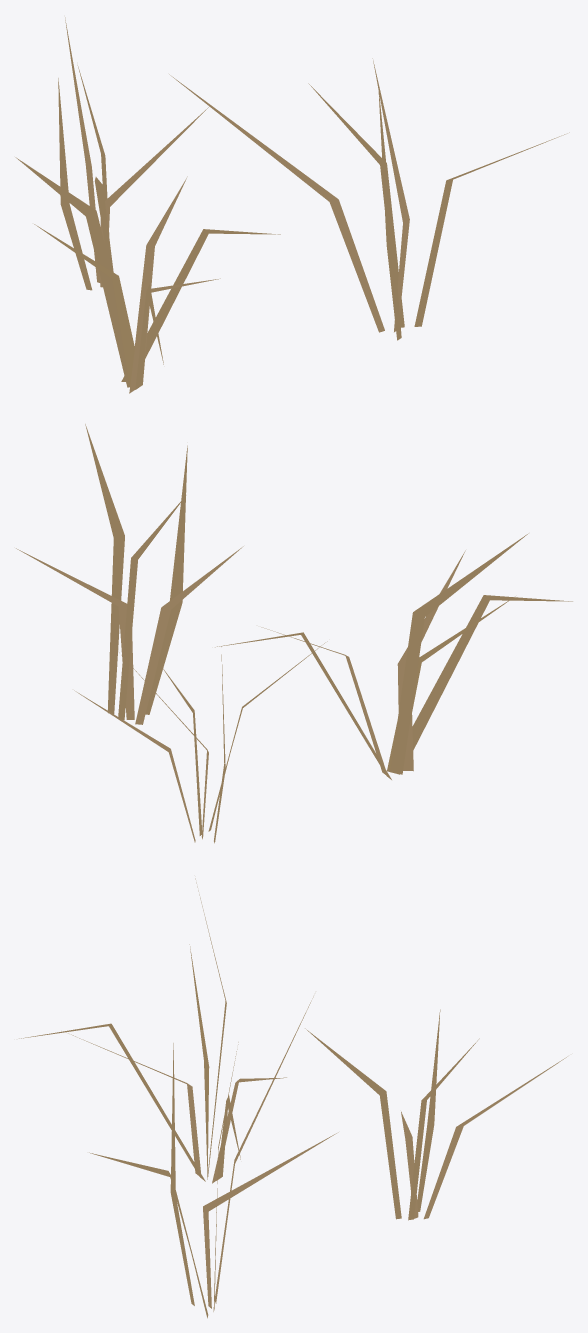
Rendered from Grass_h_TwoS_05.fbx.
3 renders of one model, top to bottom at view 1: azimuth 30°, elevation 25°; view 2: azimuth 150°, elevation 25°; view 3: azimuth 270°, elevation 25°, orthographic. The views are drawn at different scales.
Visible parts, largest first — view 1: Grass_h_TwoS_05; view 2: Grass_h_TwoS_05; view 3: Grass_h_TwoS_05.
Part boxes in pixels (bbox=[...]): Grass_h_TwoS_05: bbox=[15, 17, 569, 393]; Grass_h_TwoS_05: bbox=[16, 424, 572, 843]; Grass_h_TwoS_05: bbox=[19, 878, 567, 1318].
Size of the model in its own units: 0.8168 by 0.4301 by 0.8463.
